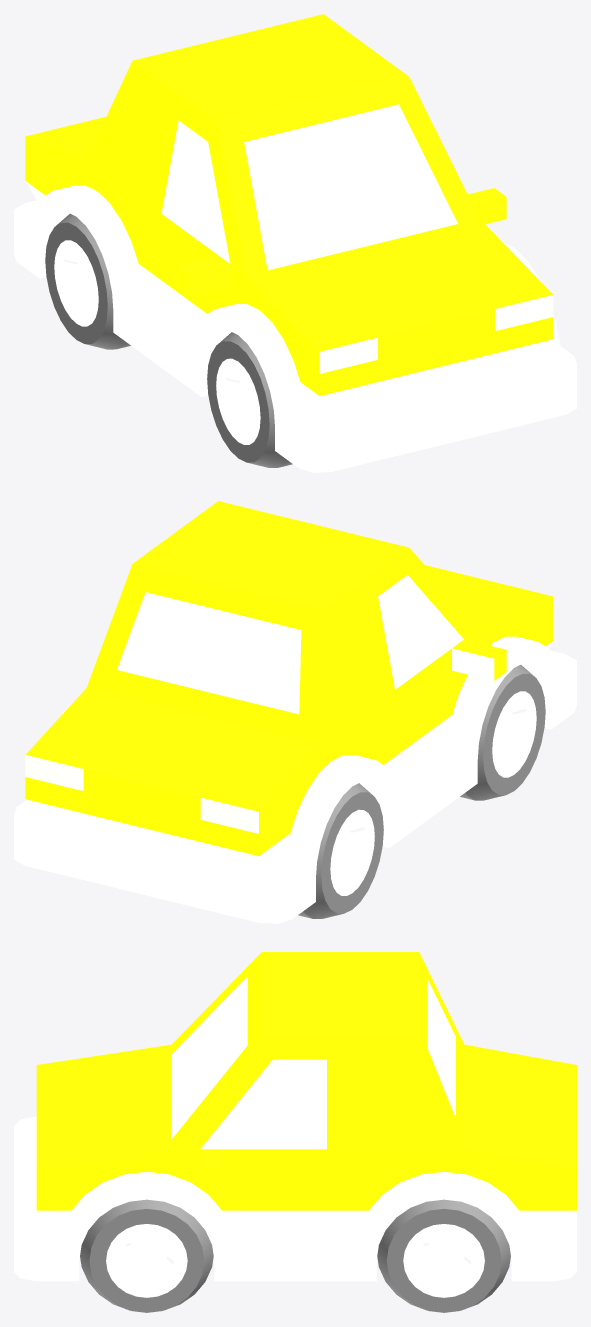
The model's file is car_orange.glb.
3 renders of one model, top to bottom at view 1: azimuth 30°, elevation 25°; view 2: azimuth 150°, elevation 25°; view 3: azimuth 270°, elevation 25°, orthographic. The views are drawn at different scales.
Visible parts, largest first — view 1: body_orange, wheel.001, wheel; view 2: body_orange, wheel, wheel.001; view 3: body_orange, wheel.002, wheel.003.
Boxes of the visible parts, x1,y1,x2,y2 form: body_orange: [14, 14, 576, 472]; wheel.001: [45, 213, 130, 349]; wheel: [207, 332, 292, 467]; body_orange: [14, 501, 576, 923]; wheel: [460, 665, 545, 800]; wheel.001: [298, 783, 383, 918]; body_orange: [14, 952, 576, 1281]; wheel.002: [80, 1199, 213, 1312]; wheel.003: [377, 1199, 510, 1312].
Bounding box in the file's own units: 1.5 × 1.3 × 2.5.
